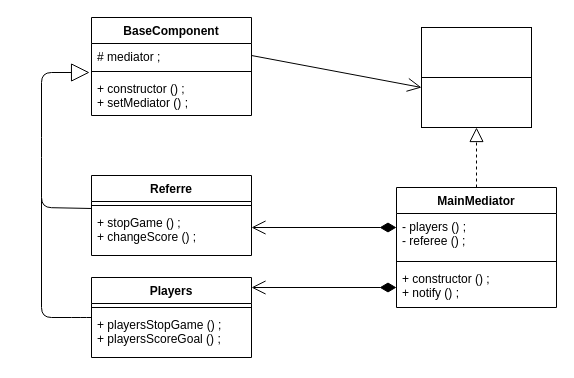
Some shapes in this 574 by 378 pixel diagram are drawn without their labels. The shapes that lost their labels are listed below. From the top down, each one's centre as x and y in pixels, then its label:
[476,52]: «interface» Mediator
[476,102]: + notify () ;
